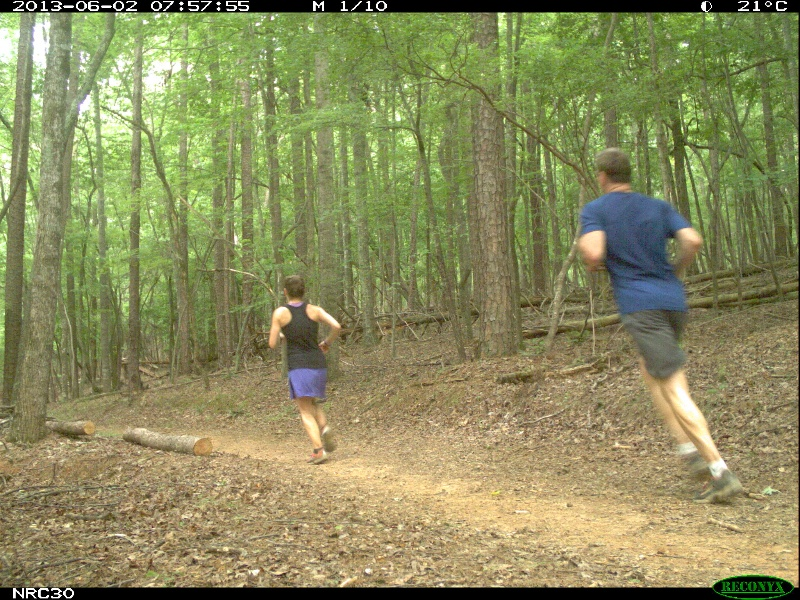human: (570, 141, 753, 509), (262, 270, 351, 471)
human legs: (615, 305, 747, 511), (283, 368, 344, 465)
